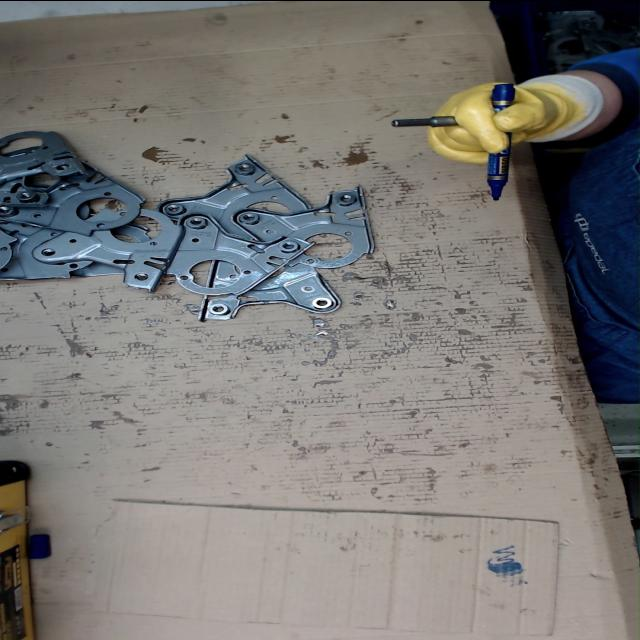hands: (426, 80, 582, 166)
